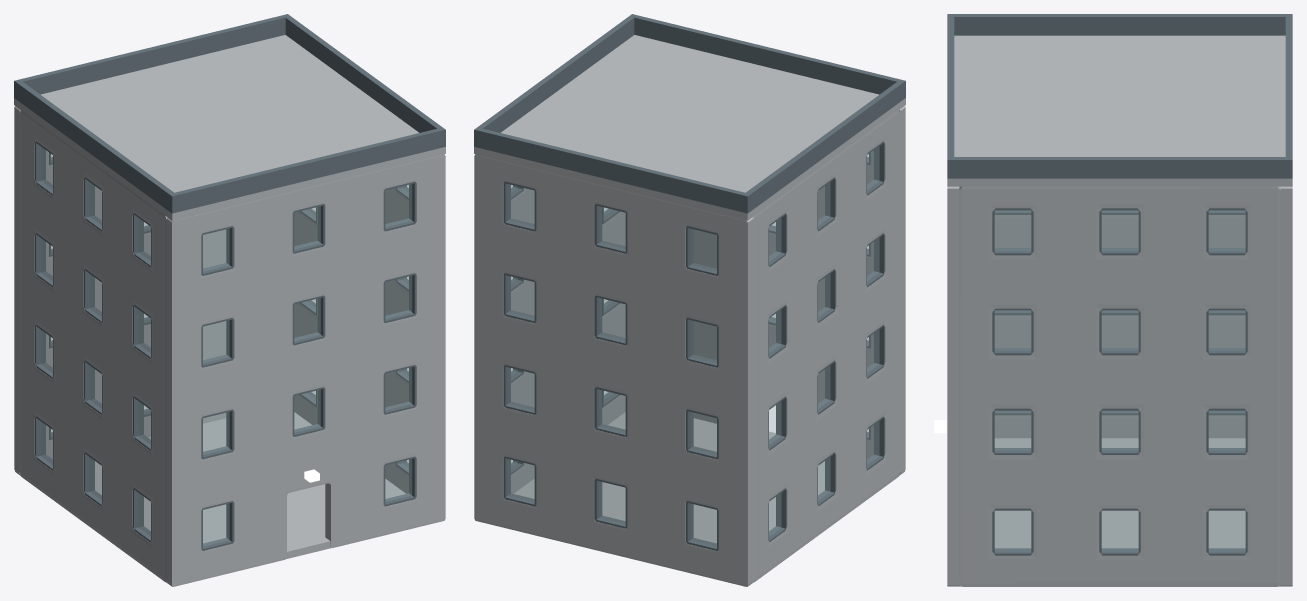
Rendered from block_4_lod0.glb.
3 views of the same model, side by side, from view 1: azimuth 30°, elevation 25°; view 2: azimuth 150°, elevation 25°; view 3: azimuth 270°, elevation 25° (orthographic). The views are drawn at different scales.
Parts seen in each view (by area): view 1: Wall_0 baked, Wall_3 baked, Ceiling baked, Parapet baked, Wall_1 baked, Parapet.002 baked, Floor baked, Wall_2 baked, Parapet.001 baked, Parapet.003 baked, Glazing.007 baked, Glazing.008 baked (+9 smaller); view 2: Wall_1 baked, Wall_3 baked, Ceiling baked, Parapet.002 baked, Wall_0 baked, Parapet baked, Wall_2 baked, Parapet.001 baked, Parapet.003 baked, Floor baked, Glazing.017 baked, Glazing.022 baked (+10 smaller); view 3: Wall_2 baked, Ceiling baked, Wall_3 baked, Parapet.001 baked, Parapet.003 baked, Floor baked, Wall_0 baked, Wall_1 baked, Glazing.030 baked, Glazing.031 baked, Glazing.033 baked, Glazing.034 baked (+10 smaller).
Part boxes in pixels (x1,y1,x2,y2): Wall_0 baked: (166, 154, 445, 586); Wall_3 baked: (19, 110, 167, 581); Ceiling baked: (14, 35, 445, 220); Parapet baked: (169, 127, 445, 213); Wall_1 baked: (14, 106, 226, 473); Parapet.002 baked: (14, 14, 290, 99); Floor baked: (15, 412, 444, 586); Wall_2 baked: (294, 188, 408, 493); Parapet.001 baked: (17, 81, 173, 210); Parapet.003 baked: (285, 16, 441, 132); Glazing.007 baked: (385, 276, 411, 318); Glazing.008 baked: (203, 229, 229, 271); Wall_1 baked: (474, 154, 753, 586); Wall_3 baked: (752, 110, 900, 581); Ceiling baked: (474, 35, 905, 220); Parapet.002 baked: (474, 127, 750, 213); Wall_0 baked: (693, 106, 905, 473); Parapet baked: (629, 14, 905, 99); Wall_2 baked: (511, 188, 625, 493); Parapet.001 baked: (746, 81, 902, 210); Parapet.003 baked: (478, 16, 634, 132); Floor baked: (475, 412, 904, 586); Glazing.017 baked: (508, 276, 534, 318); Glazing.022 baked: (690, 229, 716, 271); Wall_2 baked: (959, 186, 1280, 586); Ceiling baked: (947, 35, 1292, 186); Wall_3 baked: (994, 215, 1245, 438); Parapet.001 baked: (954, 14, 1285, 35); Parapet.003 baked: (954, 157, 1285, 178); Floor baked: (948, 438, 1291, 586); Wall_0 baked: (947, 186, 959, 586); Wall_1 baked: (1280, 186, 1292, 586); Glazing.030 baked: (1102, 310, 1138, 350); Glazing.031 baked: (1209, 310, 1245, 350); Glazing.033 baked: (1102, 210, 1138, 250); Glazing.034 baked: (1209, 210, 1245, 250).
Bounding box in the file's own units: 10 × 13.65 × 10.38.
